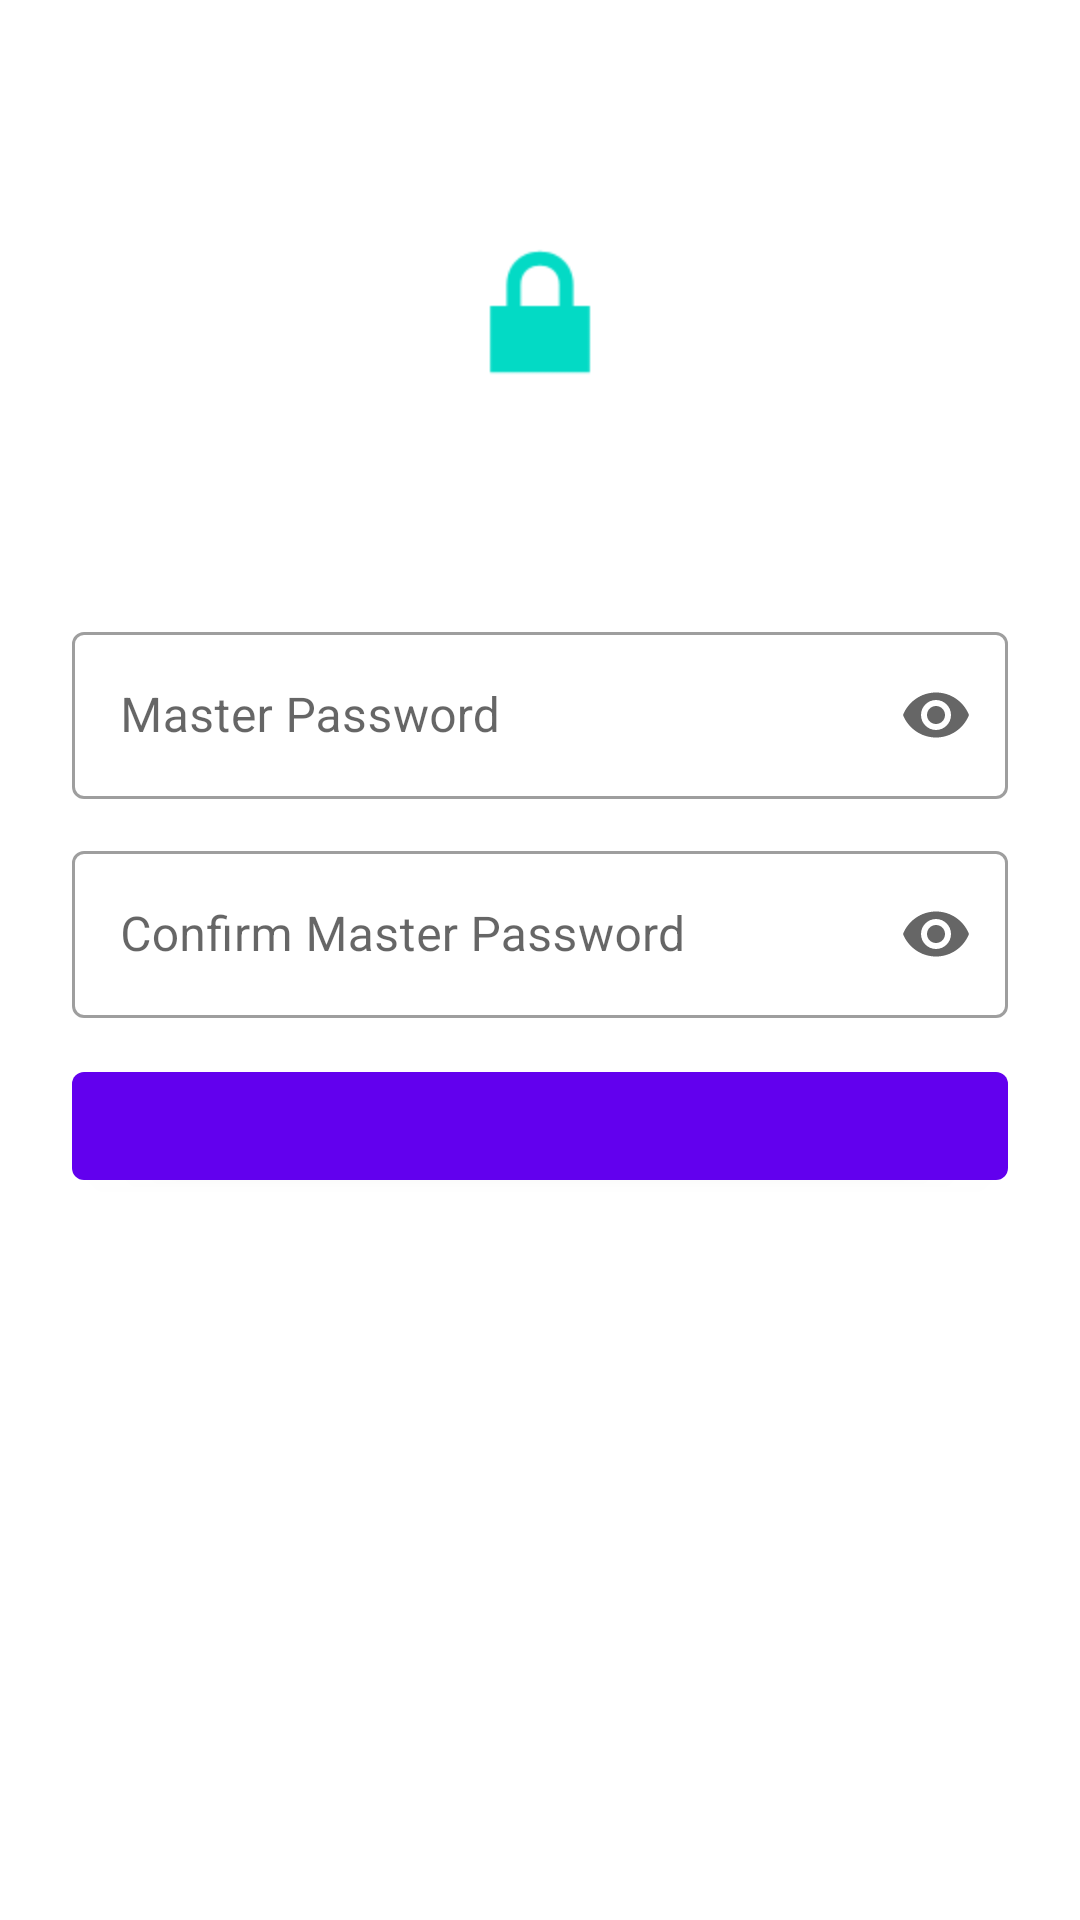

Point at icon controls on the screen. Image size 1080 × 1920, points as (x=x, y=y).
lock: (x=540, y=312)
